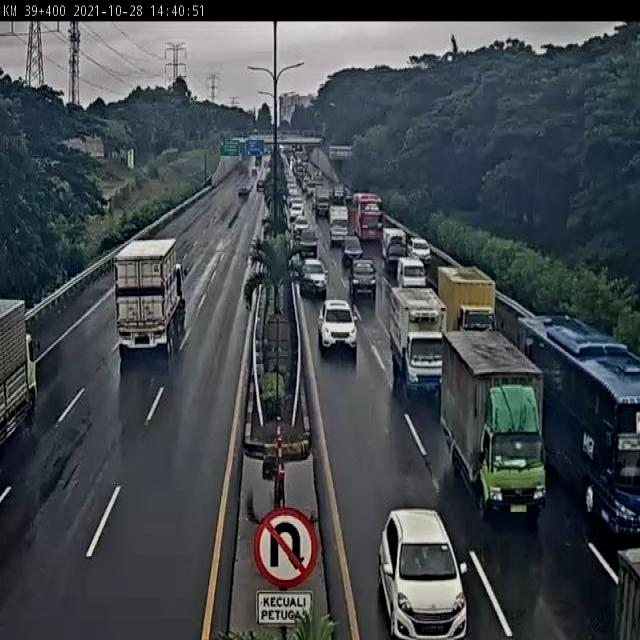Bus: (520, 316, 640, 542), (354, 191, 386, 249)
Car: (378, 507, 468, 637), (314, 300, 355, 355), (296, 257, 328, 300), (348, 259, 377, 302), (407, 237, 433, 270), (342, 235, 364, 268), (286, 198, 308, 222), (286, 183, 300, 199)
Truck: (438, 322, 550, 524), (114, 238, 188, 366), (381, 278, 447, 399), (0, 281, 47, 442), (436, 266, 494, 334), (381, 227, 408, 270), (329, 202, 354, 243), (298, 225, 319, 256), (315, 187, 331, 215), (308, 180, 324, 207), (330, 185, 349, 204)
Van: (396, 255, 424, 291)
